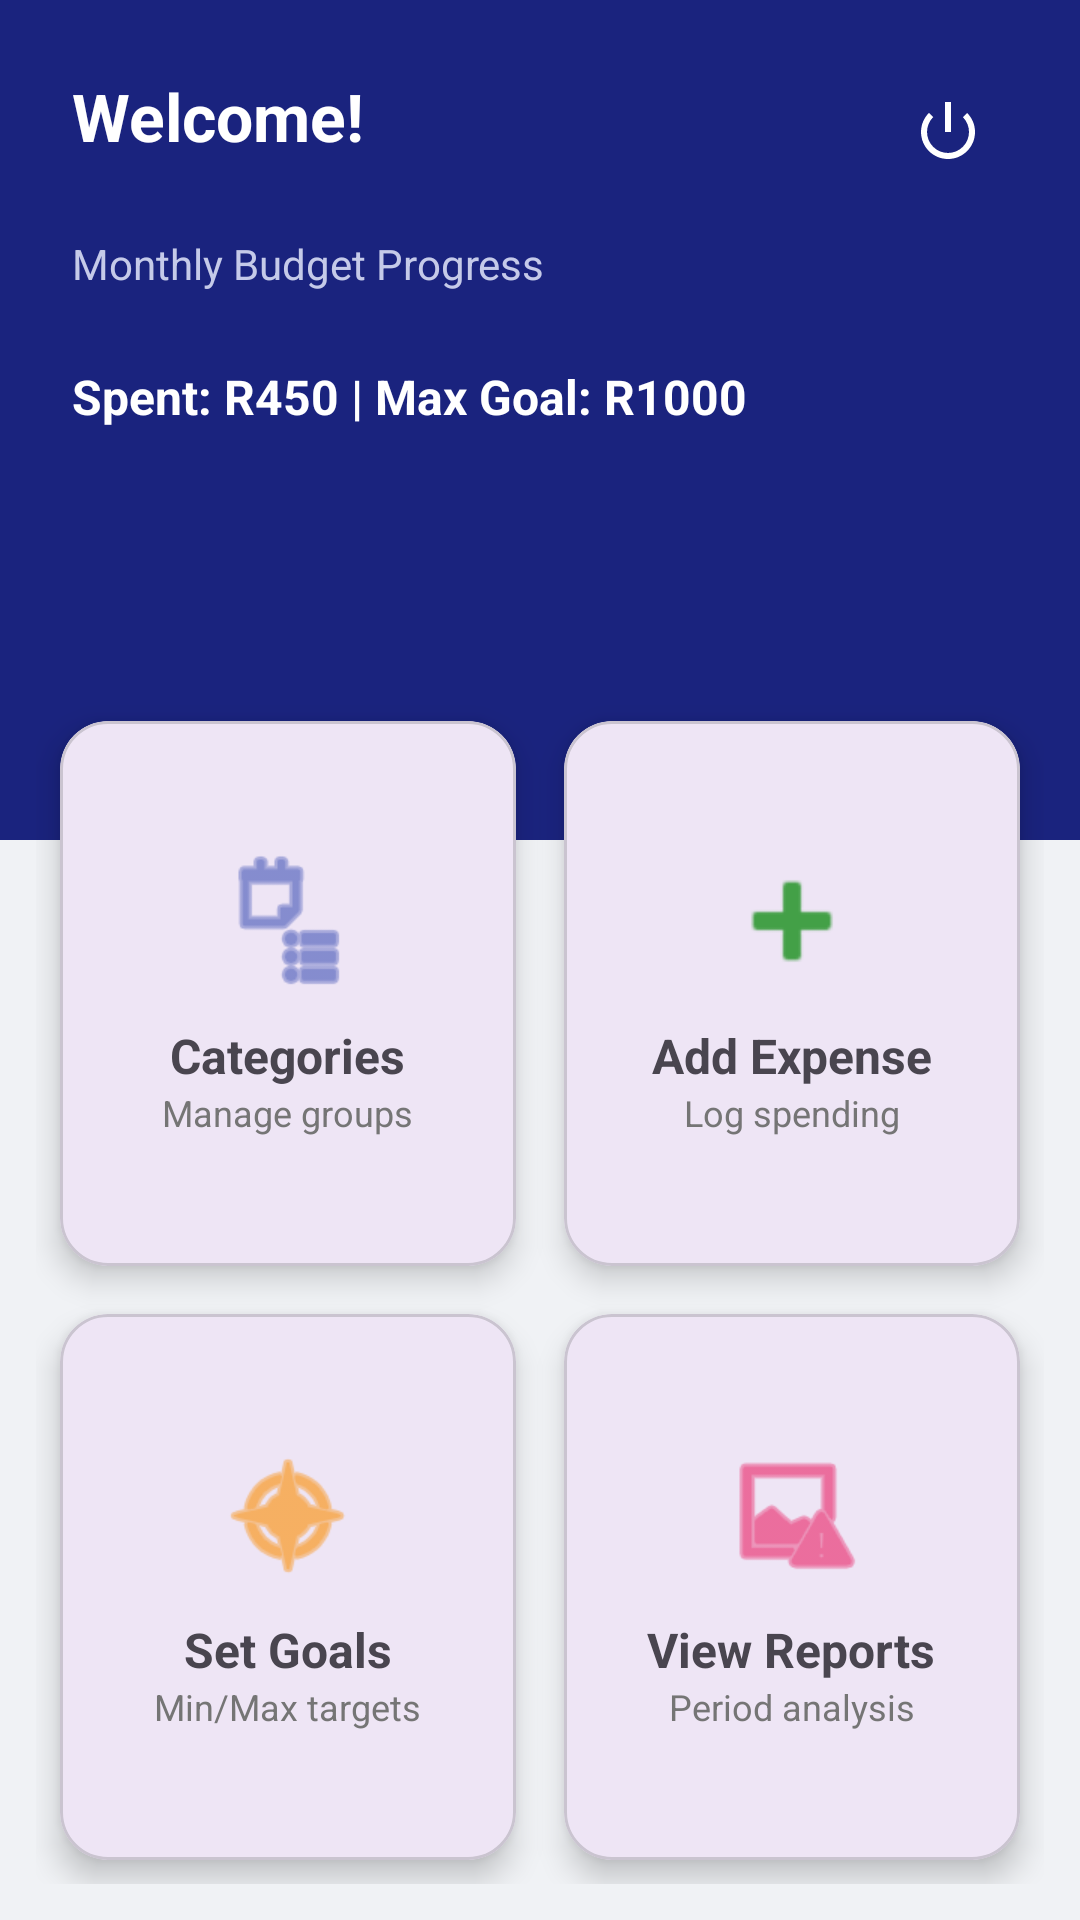

Icon bounding boxes for this 1080px×1920px phone screenshot, format box(x1, y1, x2, y2):
agenda: box(238, 856, 339, 984)
compass: box(231, 1459, 344, 1573)
lock power off: box(921, 102, 975, 159)
